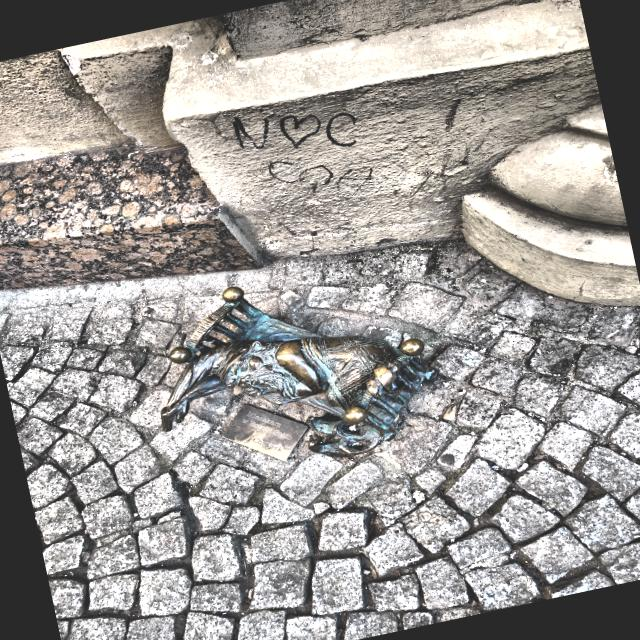Chrapek: (160, 286, 433, 455)
